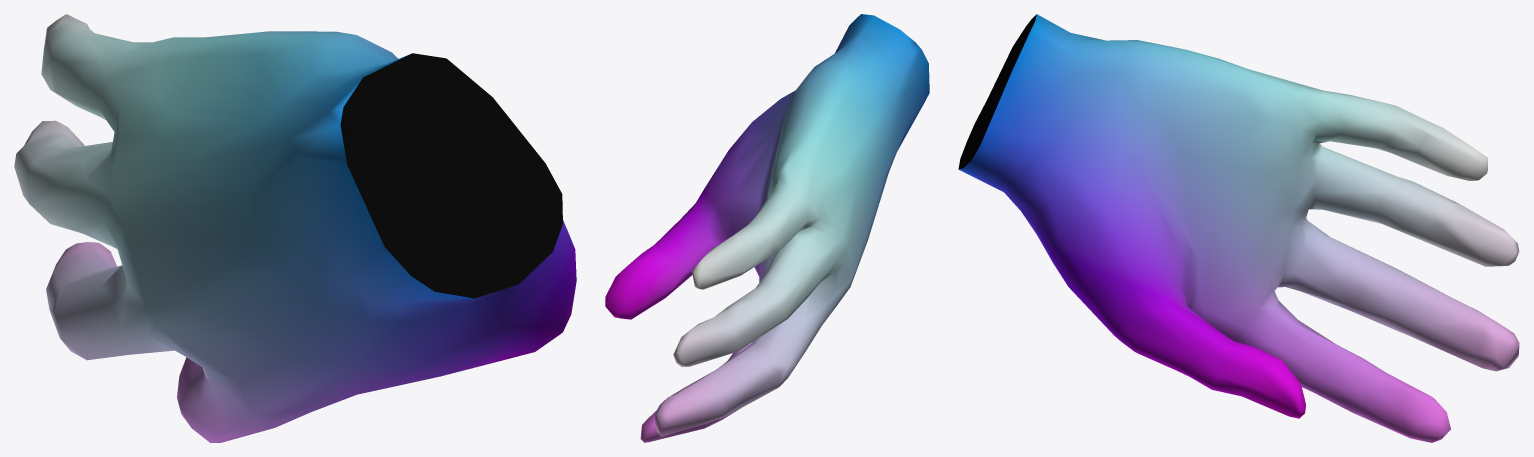
File: RightHand.gltf
The picture shows the model from 3 angles, left to right: view 1: azimuth 30°, elevation 25°; view 2: azimuth 150°, elevation 25°; view 3: azimuth 270°, elevation 25°; orthographic projection. The views are drawn at different scales.
Parts seen in each view (by area): view 1: hands:Rhand; view 2: hands:Rhand; view 3: hands:Rhand.
Part boxes in pixels (box(x1,y1,x2,y2)): hands:Rhand: box(14, 14, 576, 442); hands:Rhand: box(605, 14, 929, 442); hands:Rhand: box(958, 14, 1519, 442).
Size of the model in its own units: 10.39 by 13.9 by 18.36.
